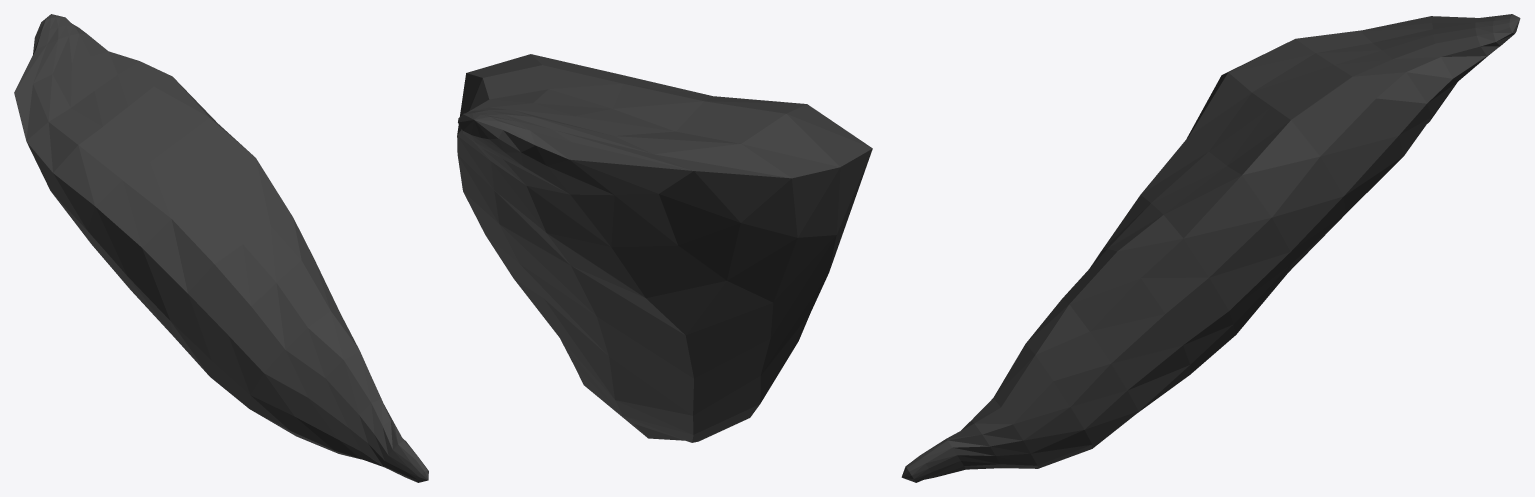
The model's file is AdductorMagnusEtBrevis.glb.
3 views of the same model, side by side, from view 1: azimuth 30°, elevation 25°; view 2: azimuth 150°, elevation 25°; view 3: azimuth 270°, elevation 25° (orthographic). The views are drawn at different scales.
Parts seen in each view (by area): view 1: AdductorMagnusEtBrevis; view 2: AdductorMagnusEtBrevis; view 3: AdductorMagnusEtBrevis.
Part boxes in pixels (x1,y1,x2,y2): AdductorMagnusEtBrevis: [14, 14, 428, 482]; AdductorMagnusEtBrevis: [457, 54, 872, 442]; AdductorMagnusEtBrevis: [901, 14, 1520, 482].
Bounding box in the file's own units: 2.74 × 3.76 × 5.39.
Materials: 1 (1 with a texture image).
